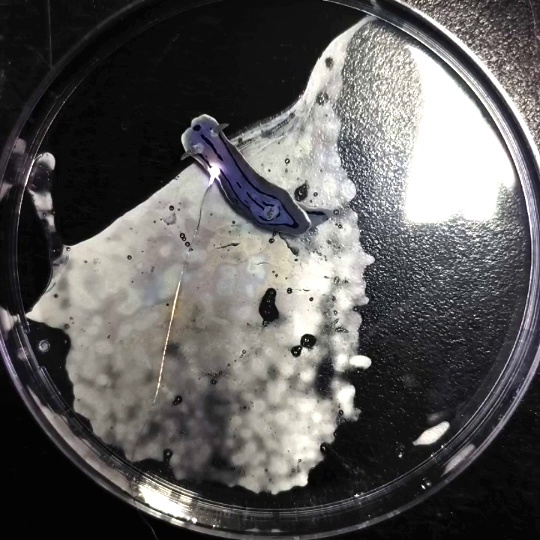sea-slug: (99, 97, 298, 226)
